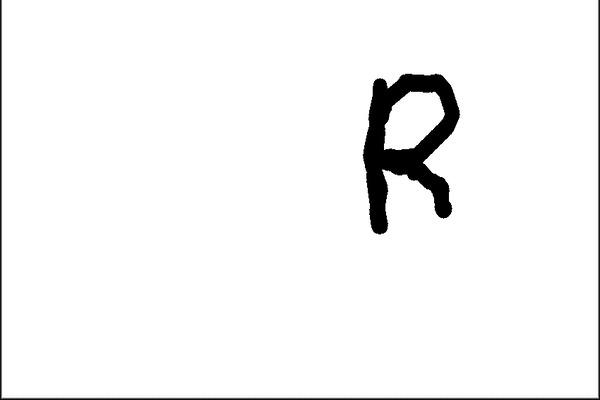R: (355, 65, 465, 236)
